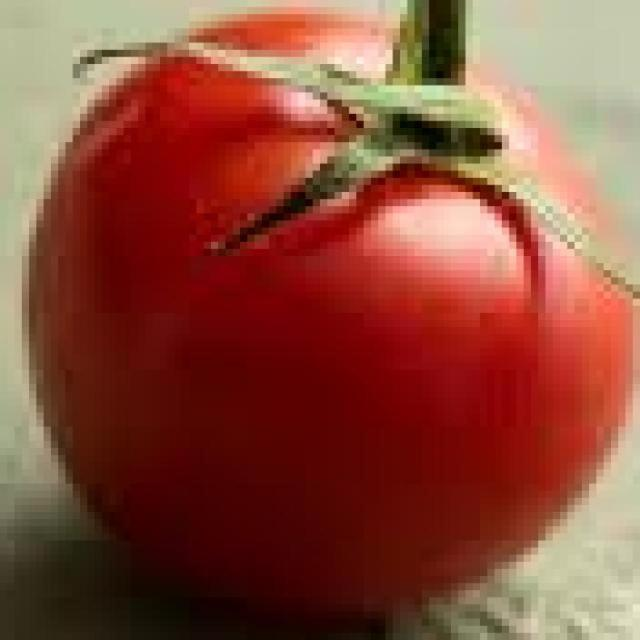Healthy Fruit: (19, 6, 424, 419)
